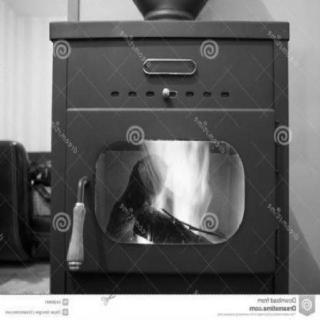Fire: (132, 135, 215, 243)
